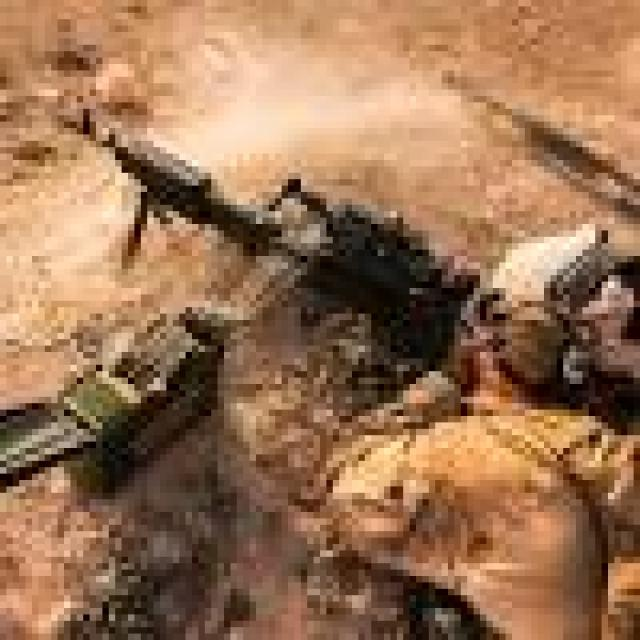Gun: (7, 75, 640, 443)
